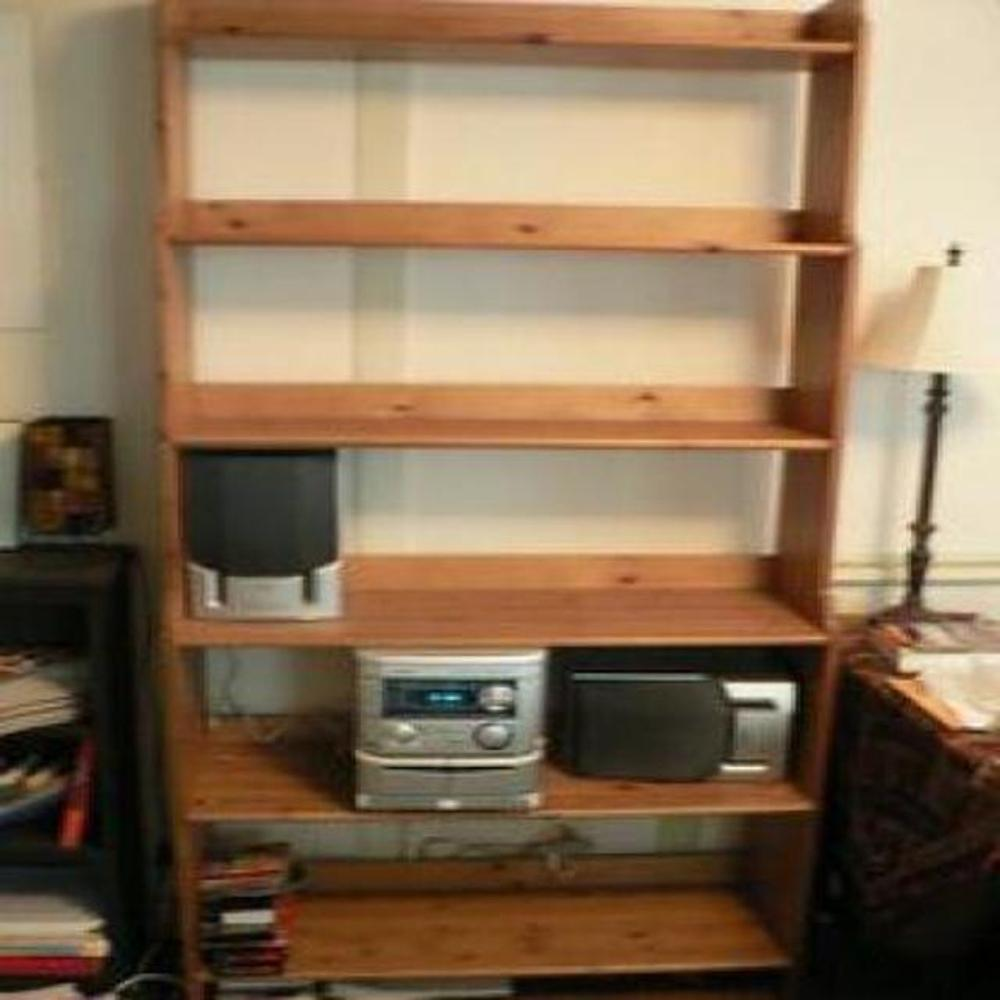lamp: (142, 1, 880, 997)
